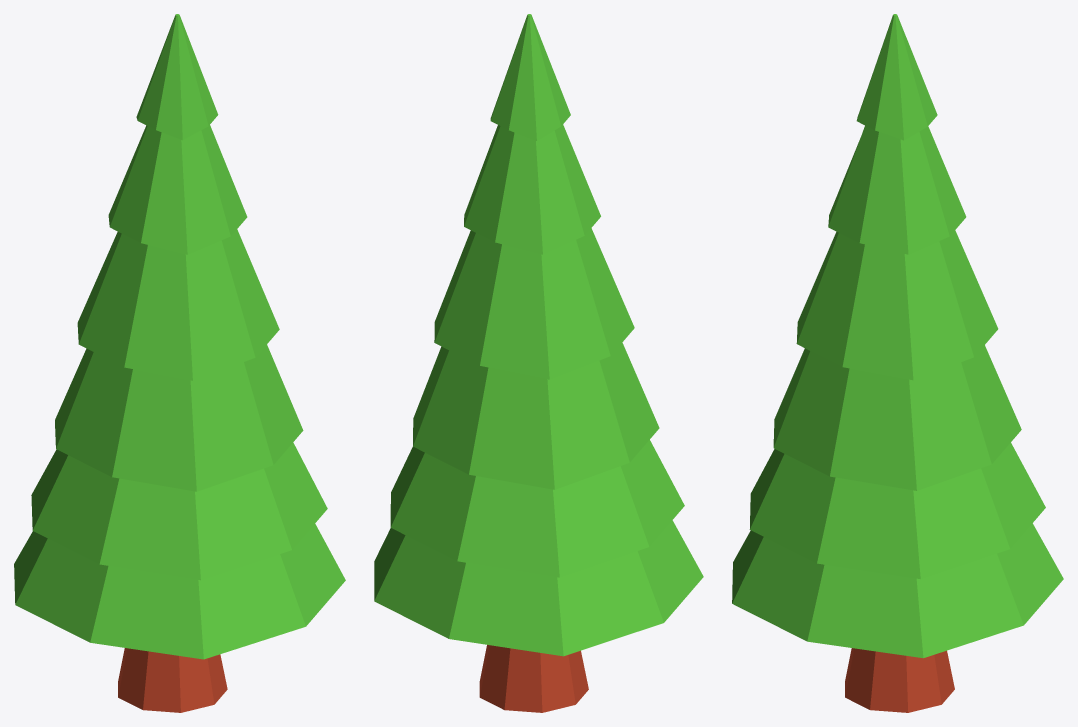
File: tree.glb
The picture shows the model from 3 angles, left to right: view 1: azimuth 30°, elevation 25°; view 2: azimuth 150°, elevation 25°; view 3: azimuth 270°, elevation 25°; orthographic projection.
Visible parts, largest first — view 1: Cylinder_primitive0, Cylinder_primitive1; view 2: Cylinder_primitive0, Cylinder_primitive1; view 3: Cylinder_primitive0, Cylinder_primitive1.
Part boxes in pixels (box(x1,y1,x2,y2)): Cylinder_primitive0: box(14, 14, 345, 659); Cylinder_primitive1: box(118, 648, 227, 712); Cylinder_primitive0: box(374, 14, 703, 656); Cylinder_primitive1: box(479, 645, 588, 712); Cylinder_primitive0: box(732, 14, 1063, 658); Cylinder_primitive1: box(845, 648, 954, 712).
Bounding box in the file's own units: 2.31 × 5.12 × 2.28.
